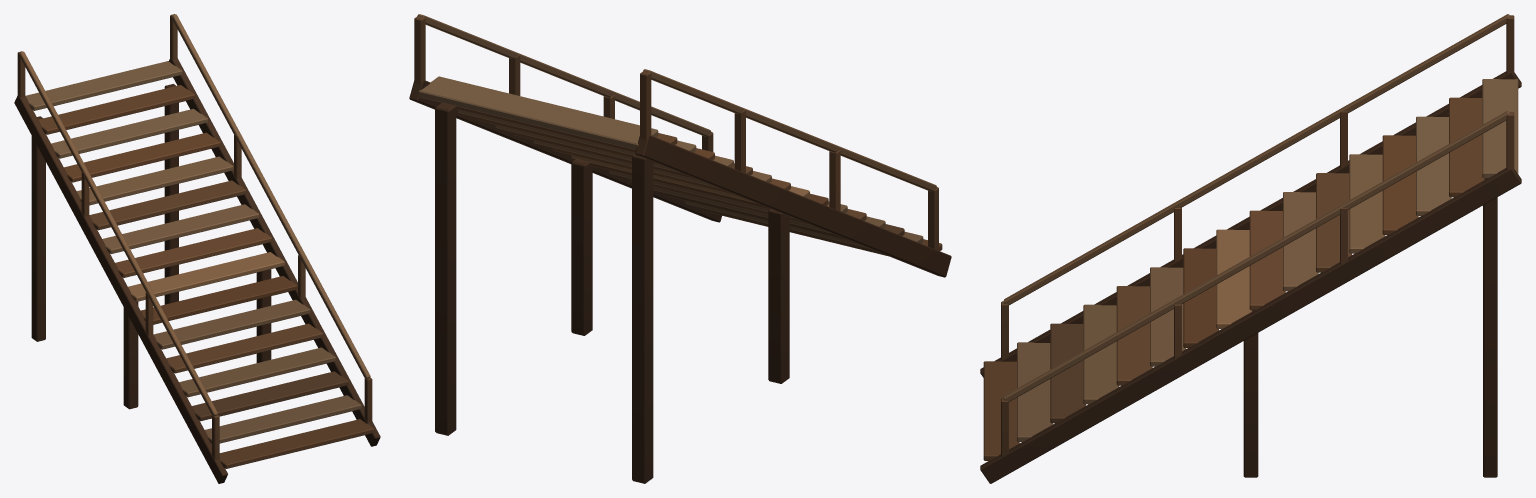
Rendered from piece_woodstairs.glb.
The picture shows the model from 3 angles, left to right: view 1: azimuth 30°, elevation 25°; view 2: azimuth 150°, elevation 25°; view 3: azimuth 270°, elevation 25°; orthographic projection. The views are drawn at different scales.
Parts seen in each view (by area): view 1: Base; view 2: Base; view 3: Base.
Part boxes in pixels (x1,y1,x2,y2): Base: (14,14,380,483); Base: (409,14,951,483); Base: (980,14,1521,483).
Bounding box in the file's own units: 3.58 × 6.15 × 8.14.
